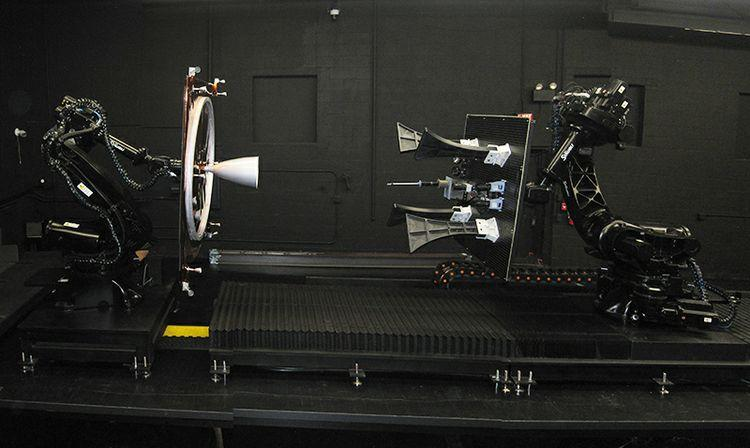antenna: (385, 173, 455, 194)
thruster: (199, 155, 262, 190)
